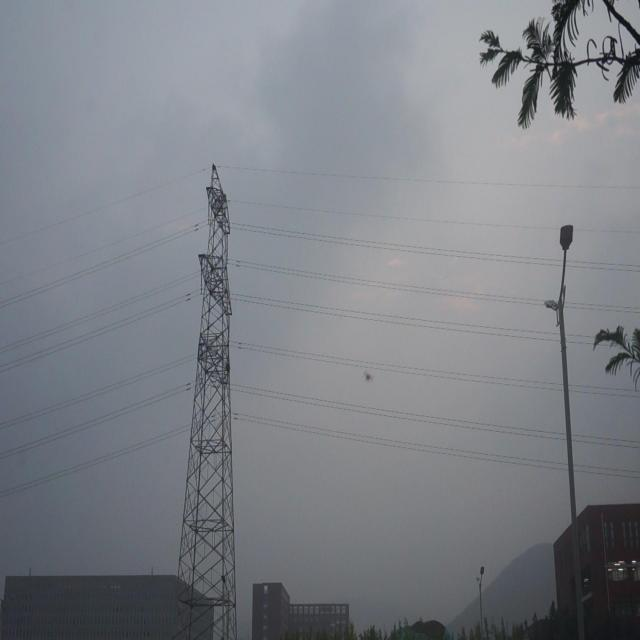UAV: (363, 371, 374, 384)
